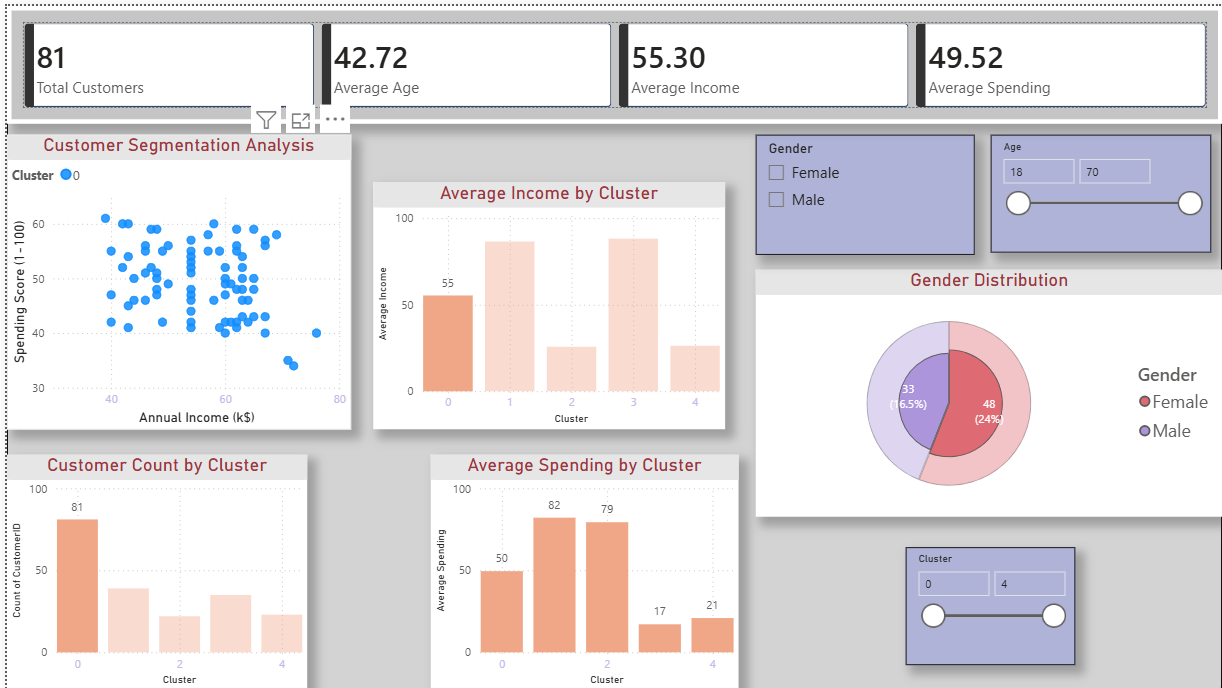

Layout of this report page (visuals, bound fields, positions):
{"tool":"powerbi","page":{"name":"Page 1","canvas":[1280,720],"ordinal":0},"visuals":[{"type":"cardVisual","fields":{"Data":["Sheet1.Total Customers","Sheet1.Average Age","Sheet1.Average Income","Sheet1.Average Spending"]},"box":[0,0,1280,124],"z":0},{"type":"scatterChart","title":"Customer Segmentation Analysis","fields":{"X":["Sheet1.Annual Income (k$)"],"Y":["Sheet1.Spending Score (1-100)"],"Series":["Sheet1.Cluster"]},"box":[0,136,362,310],"z":1000},{"type":"clusteredColumnChart","title":"Customer Count by Cluster","fields":{"Category":["Sheet1.Cluster"],"Y":["CountNonNull(Sheet1.CustomerID)"]},"box":[0,472,316,248],"z":2000},{"type":"clusteredColumnChart","fields":{"Category":["Sheet1.Cluster"],"Y":["Sheet1.Average Income"]},"box":[386,186,370,260],"z":3000},{"type":"clusteredColumnChart","fields":{"Category":["Sheet1.Cluster"],"Y":["Sheet1.Average Spending"]},"box":[446,472,324,248],"z":4000},{"type":"pieChart","title":"Gender Distribution","fields":{"Category":["Sheet1.Gender"],"Y":["CountNonNull(Sheet1.CustomerID)"]},"box":[788,278,492,260],"z":5000},{"type":"slicer","fields":{"Values":["Sheet1.Gender"]},"box":[788,136,230,126],"z":6000},{"type":"slicer","fields":{"Values":["Sheet1.Cluster"]},"box":[946,570,178,124],"z":7000},{"type":"slicer","fields":{"Values":["Sheet1.Age"]},"box":[1036,136,232,124],"z":8000}]}

Visuals, with their boxes in screenshot pixels (x1, y1, x2, y2):
cardVisual - Sheet1.Total Customers x Sheet1.Average Age: <box>10,3,1215,120</box>
"Customer Segmentation Analysis" scatterChart: <box>10,131,350,423</box>
"Customer Count by Cluster" clusteredColumnChart: <box>10,448,307,681</box>
clusteredColumnChart - Sheet1.Cluster x Sheet1.Average Income: <box>373,178,721,423</box>
clusteredColumnChart - Sheet1.Cluster x Sheet1.Average Spending: <box>429,448,734,681</box>
"Gender Distribution" pieChart: <box>751,265,1215,510</box>
slicer - Sheet1.Gender: <box>751,131,968,250</box>
slicer - Sheet1.Cluster: <box>900,540,1068,657</box>
slicer - Sheet1.Age: <box>985,131,1203,248</box>
